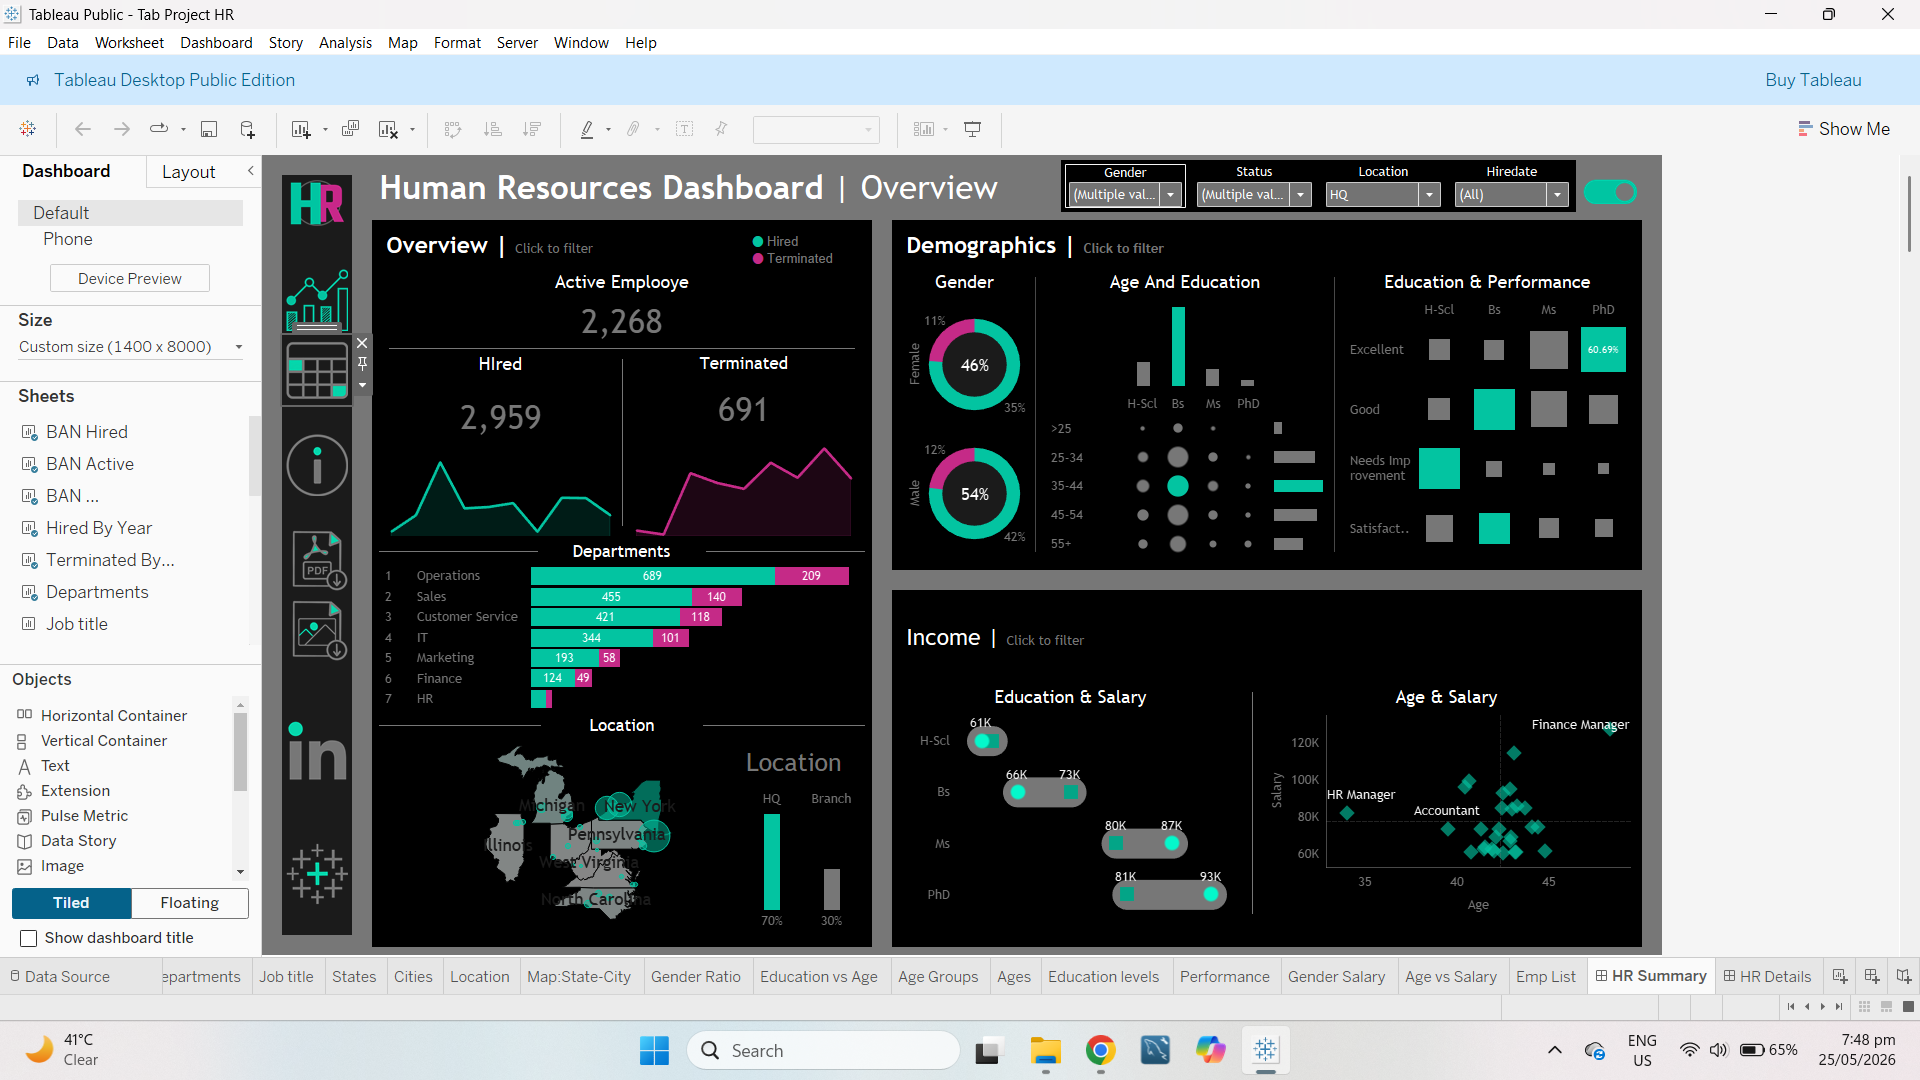

The page's visual inventory and layout, read from the dashboard file:
{"tool":"tableau","page":{"name":"HR Summary","canvas":[1400,8000],"ordinal":1},"visuals":[{"type":"blank","box":[87,0,1312,171]},{"type":"text","box":[110,0,795,65]},{"type":"blank","box":[905,0,475,65]},{"type":"filter","title":"Gender Salary","param":"[federated.1uhzz1b15wnpmx18nr32u0xbp1uh].[none:Gender:nk]","box":[799,5,129,52]},{"type":"filter","title":"Gender Salary","param":"[federated.1uhzz1b15wnpmx18nr32u0xbp1uh].[none:Calculation_543246762846167040:nk","box":[928,5,129,52]},{"type":"filter","title":"Gender Salary","param":"[federated.1uhzz1b15wnpmx18nr32u0xbp1uh].[none:Calculation_322007430433136648:nk","box":[1057,5,129,52]},{"type":"filter","title":"Gender Salary","param":"[federated.1uhzz1b15wnpmx18nr32u0xbp1uh].[yr:Hiredate:ok]","box":[1186,5,128,52]},{"type":"dashboard-object","box":[1321,12,54,49]},{"type":"image","param":"Image/Logo.png","box":[20,20,70,55]},{"type":"text","box":[117,72.1,486,35]},{"type":"text","box":[637,72.1,736,35]},{"type":"blank","box":[20,75,70,35]},{"type":"text","box":[487,79,118,36]},{"type":"text","box":[117,107.1,486,34.1]},{"type":"dashboard-object","box":[20,110.1,70,70]},{"type":"text","box":[637,112.2,131,29]},{"type":"blank","box":[773,112.2,1,295]},{"type":"text","box":[779,112.2,288,29]},{"type":"blank","box":[1072,112.2,1,295]},{"type":"text","box":[1078,112.2,295,29]},{"type":"worksheet","title":"BAN Active","mark":"Text","box":[117,141.2,486,52.1]},{"type":"worksheet","title":"Gender Ratio","mark":"Pie","rows":["Gender"],"cols":["Calculation_322007430445666314","Calculation_322007430445666314"],"box":[637,141.2,131,265.9]},{"type":"worksheet","title":"Performance","mark":"Square","rows":["Performance Rating"],"cols":["Education Level"],"box":[1078,141.2,295,265.8]},{"type":"worksheet","title":"Education levels","mark":"Bar","rows":["Calculation_322007430422765568"],"cols":["Education Level"],"box":[779,144.2,288,91]},{"type":"text","box":[87,171,1312,231]},{"type":"dashboard-object","box":[20,180.1,70,70]},{"type":"blank","box":[117,193.3,486,1]},{"type":"text","box":[117,194.3,243,29]},{"type":"blank","box":[360,194.3,1,187]},{"type":"text","box":[361,194.3,242,28]},{"type":"worksheet","title":"BAN Terminated","mark":"Text","box":[361,222.3,242,65]},{"type":"worksheet","title":"BAN Hired","mark":"Text","box":[117,223.4,243,79]},{"type":"worksheet","title":"Education vs Age","mark":"Circle","rows":["Calculation_316659406179348481"],"cols":["Education Level"],"box":[779,235.2,229,172]},{"type":"worksheet","title":"Age Groups","mark":"Bar","rows":["Calculation_316659406179348481"],"cols":["Calculation_322007430422765568"],"box":[1008,235.2,59,172]},{"type":"blank","box":[20,250.1,70,25]},{"type":"dashboard-object","box":[20,275.1,70,70]},{"type":"worksheet","title":"Terminated By Year ","mark":"Line","rows":["Calculation_322007430423404545","Calculation_322007430423404545"],"cols":["Termdate"],"box":[361,287.4,242,94]},{"type":"worksheet","title":"Hired By Year","mark":"Line","rows":["Calculation_322007430422765568","Calculation_322007430422765568"],"cols":["Hiredate"],"box":[117,302.3,243,79]},{"type":"blank","box":[20,345.1,70,25]},{"type":"dashboard-object","box":[20,370.2,70,70]},{"type":"blank","box":[117,381.4,159.3,30]},{"type":"text","box":[276.3,381.4,167.3,30]},{"type":"blank","box":[443.7,381.4,159.3,30]},{"type":"blank","box":[87,402.1,1312,107]},{"type":"worksheet","title":"Departments","mark":"Bar","rows":["Calculation_322007430431711238","Department"],"cols":["Calculation_322007430422765568"],"box":[117,411.4,486,143.4]},{"type":"dashboard-object","box":[20,440.2,70,70]},{"type":"text","box":[637,442.1,736,80]},{"type":"blank","box":[20,510.2,70,25]},{"type":"text","box":[637,527.1,343,29]},{"type":"blank","box":[990,527.1,1,242]},{"type":"text","box":[996,527.1,377,29]},{"type":"image","param":"Image/contact-linkedin.png","box":[20,535.2,70,122.4]},{"type":"blank","box":[117,554.7,162,30]},{"type":"text","box":[279,554.7,162,30]},{"type":"blank","box":[441,554.7,162,30]},{"type":"worksheet","title":"Gender Salary","mark":"Square","rows":["Education Level"],"cols":["Salary","Salary"],"box":[637,556.2,343,212.8]},{"type":"worksheet","title":"Age vs Salary","mark":"Shape","rows":["Salary"],"cols":["Calculation_316659406177923072"],"box":[996,556.2,377,213]},{"type":"worksheet","title":"Map:State-City","mark":"Automatic","box":[117,584.7,359,200.3]},{"type":"worksheet","title":"Location","mark":"Bar","rows":["Calculation_322007430422765568"],"cols":["Calculation_322007430433136648","Calculation1"],"box":[476,584.7,127,200.3]},{"type":"image","param":"Image/contact-public.png","box":[20,657.6,70,122.4]}]}

Visuals, with their boxes on the page's 1400x8000 design canvas (x1, y1, x2, y2). These are canvas units, not pixel positions in the 1920x1080 screenshot, which may show the page scaled, cropped or inside an application window:
blank: [87, 0, 1399, 171]
text: [110, 0, 905, 65]
blank: [905, 0, 1380, 65]
"Gender Salary" filter: [799, 5, 928, 57]
"Gender Salary" filter: [928, 5, 1057, 57]
"Gender Salary" filter: [1057, 5, 1186, 57]
"Gender Salary" filter: [1186, 5, 1314, 57]
dashboard-object: [1321, 12, 1375, 61]
image: [20, 20, 90, 75]
text: [117, 72, 603, 107]
text: [637, 72, 1373, 107]
blank: [20, 75, 90, 110]
text: [487, 79, 605, 115]
text: [117, 107, 603, 141]
dashboard-object: [20, 110, 90, 180]
text: [637, 112, 768, 141]
blank: [773, 112, 774, 407]
text: [779, 112, 1067, 141]
blank: [1072, 112, 1073, 407]
text: [1078, 112, 1373, 141]
"BAN Active" worksheet (Text marks): [117, 141, 603, 193]
"Gender Ratio" worksheet (Pie marks): [637, 141, 768, 407]
"Performance" worksheet (Square marks): [1078, 141, 1373, 407]
"Education levels" worksheet (Bar marks): [779, 144, 1067, 235]
text: [87, 171, 1399, 402]
dashboard-object: [20, 180, 90, 250]
blank: [117, 193, 603, 194]
text: [117, 194, 360, 223]
blank: [360, 194, 361, 381]
text: [361, 194, 603, 222]
"BAN Terminated" worksheet (Text marks): [361, 222, 603, 287]
"BAN Hired" worksheet (Text marks): [117, 223, 360, 302]
"Education vs Age" worksheet (Circle marks): [779, 235, 1008, 407]
"Age Groups" worksheet (Bar marks): [1008, 235, 1067, 407]
blank: [20, 250, 90, 275]
dashboard-object: [20, 275, 90, 345]
"Terminated By Year " worksheet (Line marks): [361, 287, 603, 381]
"Hired By Year" worksheet (Line marks): [117, 302, 360, 381]
blank: [20, 345, 90, 370]
dashboard-object: [20, 370, 90, 440]
blank: [117, 381, 276, 411]
text: [276, 381, 444, 411]
blank: [444, 381, 603, 411]
blank: [87, 402, 1399, 509]
"Departments" worksheet (Bar marks): [117, 411, 603, 555]
dashboard-object: [20, 440, 90, 510]
text: [637, 442, 1373, 522]
blank: [20, 510, 90, 535]
text: [637, 527, 980, 556]
blank: [990, 527, 991, 769]
text: [996, 527, 1373, 556]
image: [20, 535, 90, 658]
blank: [117, 555, 279, 585]
text: [279, 555, 441, 585]
blank: [441, 555, 603, 585]
"Gender Salary" worksheet (Square marks): [637, 556, 980, 769]
"Age vs Salary" worksheet (Shape marks): [996, 556, 1373, 769]
"Map:State-City" worksheet: [117, 585, 476, 785]
"Location" worksheet (Bar marks): [476, 585, 603, 785]
image: [20, 658, 90, 780]
